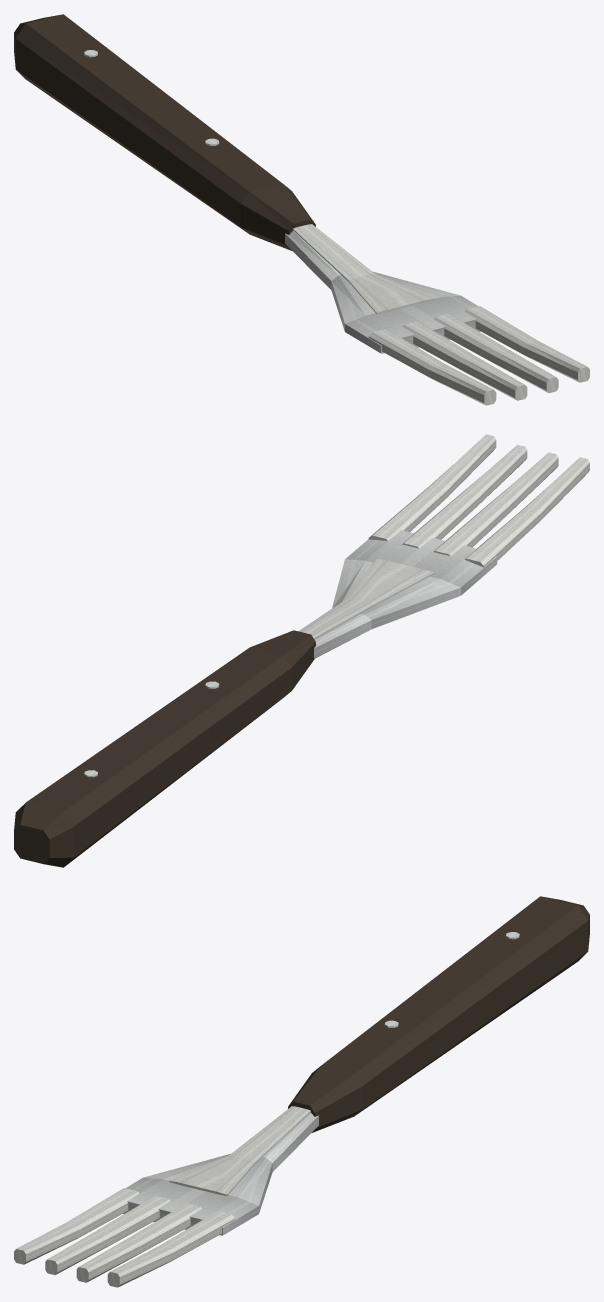
The model's file is fork.glb.
3 views of the same model, one above another, from view 1: azimuth 30°, elevation 25°; view 2: azimuth 150°, elevation 25°; view 3: azimuth 330°, elevation 25° (orthographic).
Visible parts, largest first — view 1: home_fork; view 2: home_fork; view 3: home_fork.
Part boxes in pixels (x1=…): home_fork: x1=14, y1=14, x2=589, y2=405; home_fork: x1=14, y1=434, x2=589, y2=867; home_fork: x1=14, y1=896, x2=589, y2=1287.
Size of the model in its own units: 0.026 by 0.012 by 0.196.
1 material, 1 textured.
